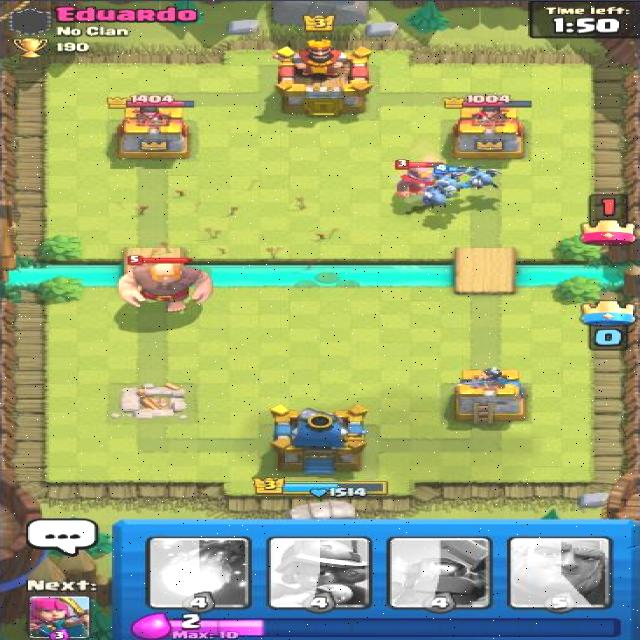Enemy-Giant: (114, 253, 215, 317)
Enemy-Knight: (392, 157, 448, 199)
Player-Minion: (454, 162, 508, 193), (429, 161, 479, 193), (414, 184, 462, 213)
